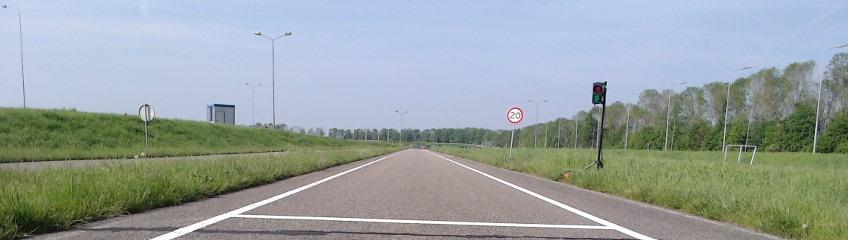Speed-limit-20km-h-: (507, 108, 523, 123)
TrafficLight-green: (592, 82, 604, 104)
